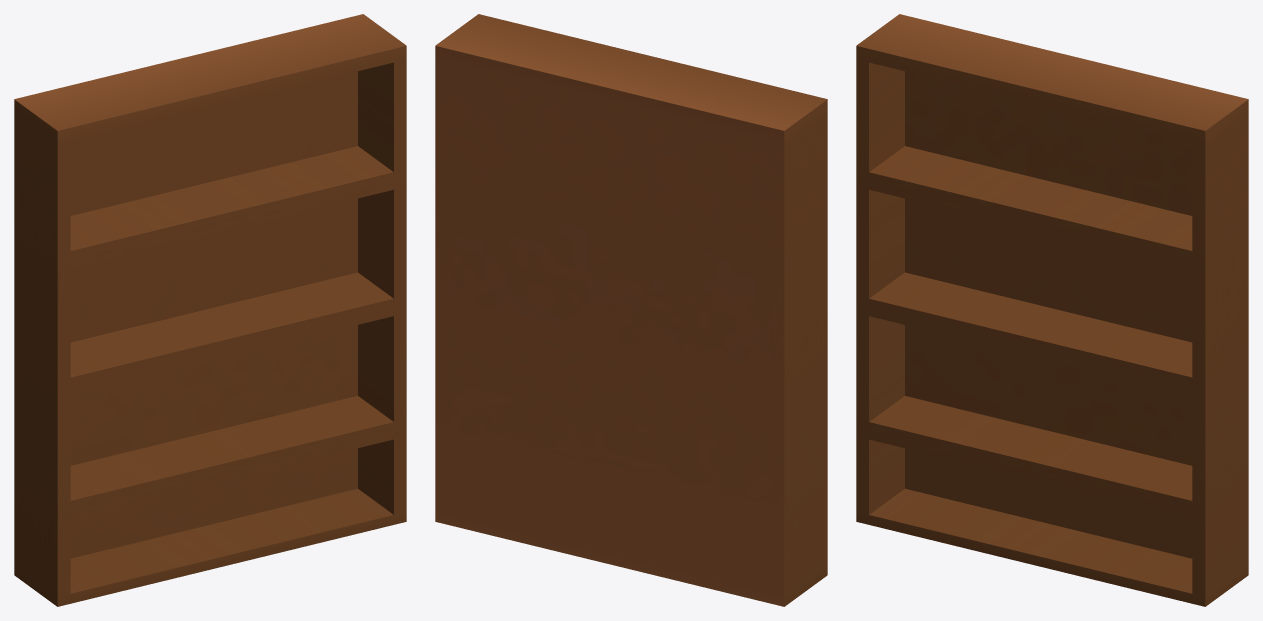
File: Tall Shelf.fbx
3 renders of one model, left to right at view 1: azimuth 30°, elevation 25°; view 2: azimuth 150°, elevation 25°; view 3: azimuth 330°, elevation 25°, orthographic.
Parts seen in each view (by area): view 1: tallshelf; view 2: tallshelf; view 3: tallshelf.
Boxes of the visible parts, x1,y1,x2,y2 form: tallshelf: [14, 14, 406, 606]; tallshelf: [435, 14, 827, 606]; tallshelf: [856, 14, 1248, 606].
Bounding box in the file's own units: 137 × 178 × 29.39.
